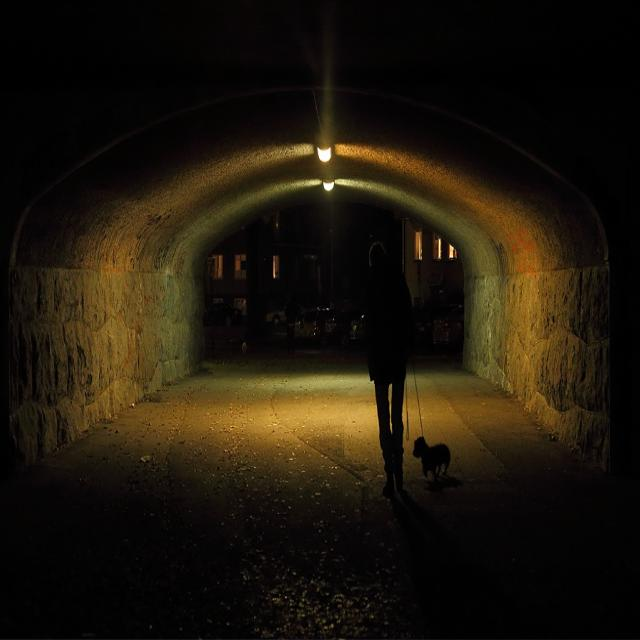dog: (413, 428, 462, 488)
